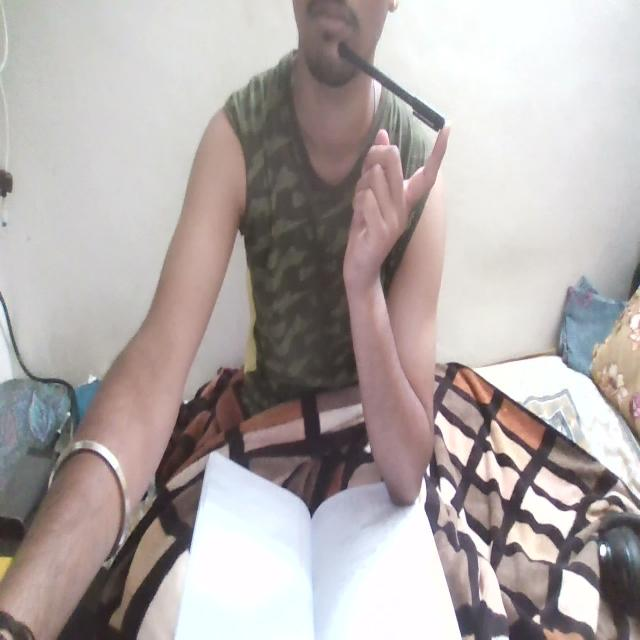book: (214, 436, 440, 640)
pen: (324, 23, 456, 159)
